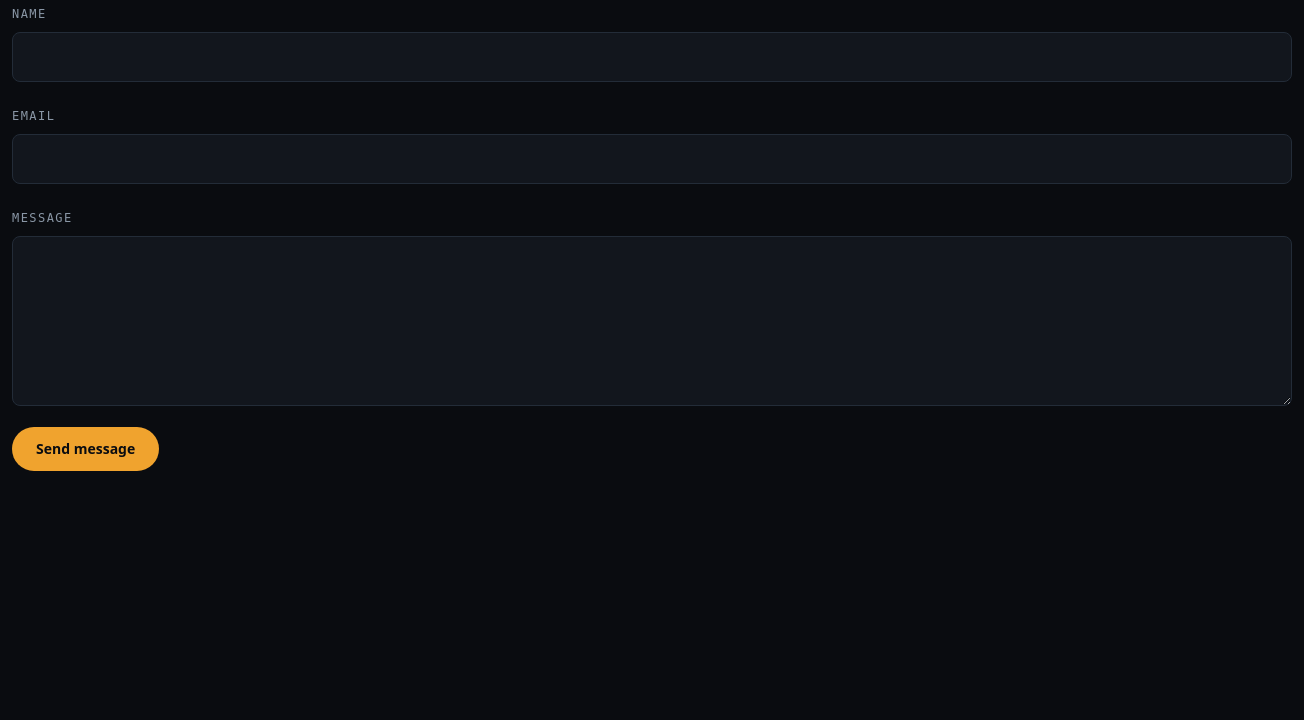
ContactForm › shows the error on blur and marks the field invalid
The width and height of the screenshot is (1304, 720).
Click the field labelled "Email".
click(652, 159)  # box [12, 134, 1292, 184]
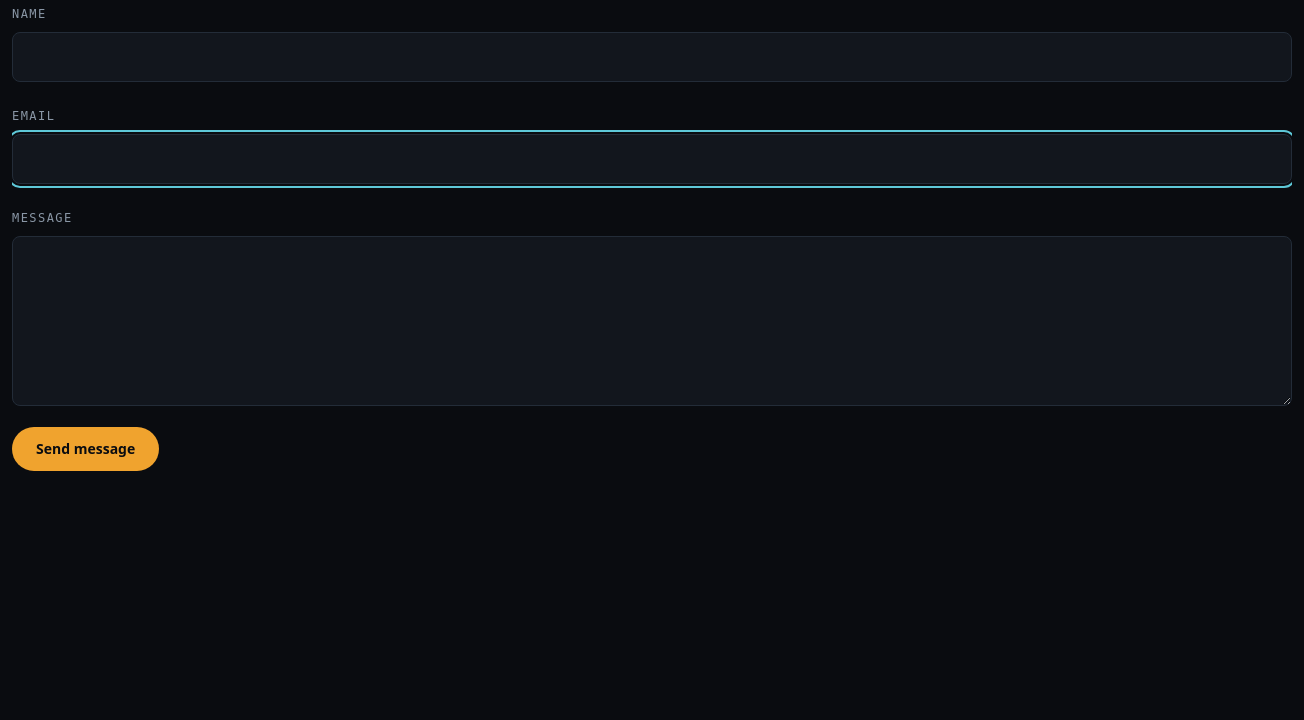
Press Tab
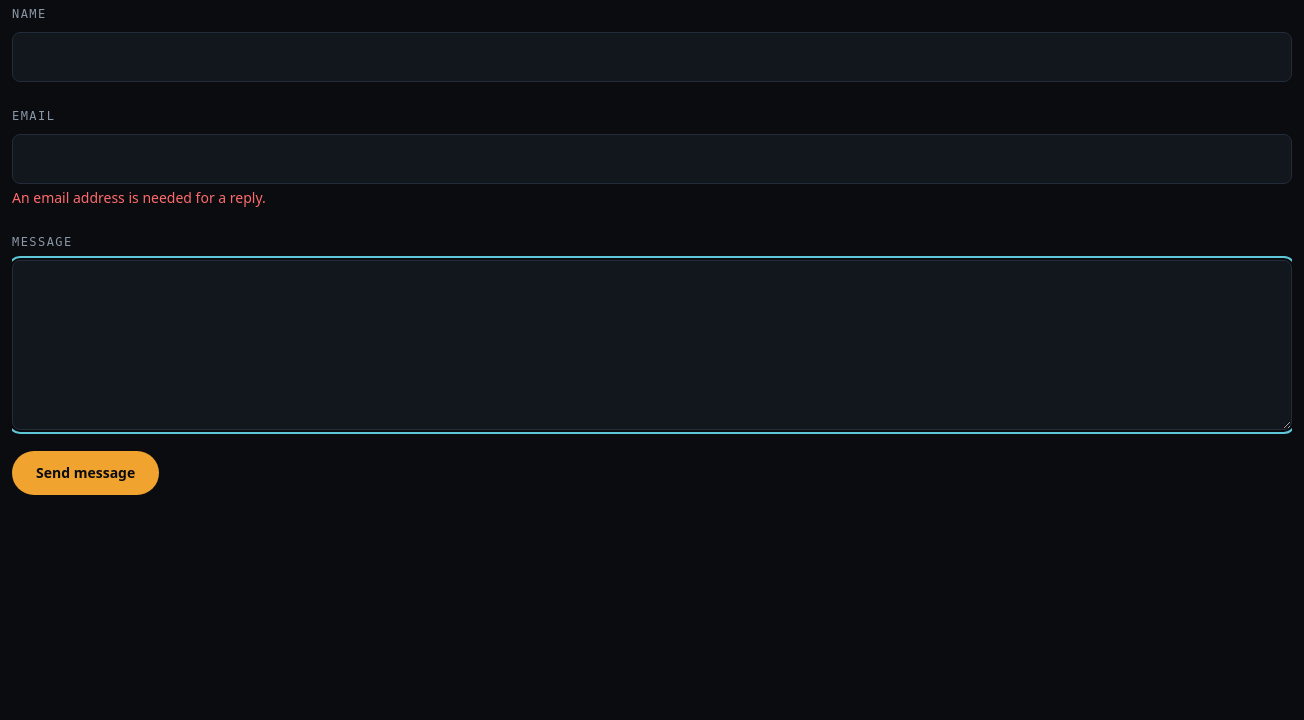
Expected: the text "An email address is needed for a reply." is shown, [12, 188, 266, 207]
